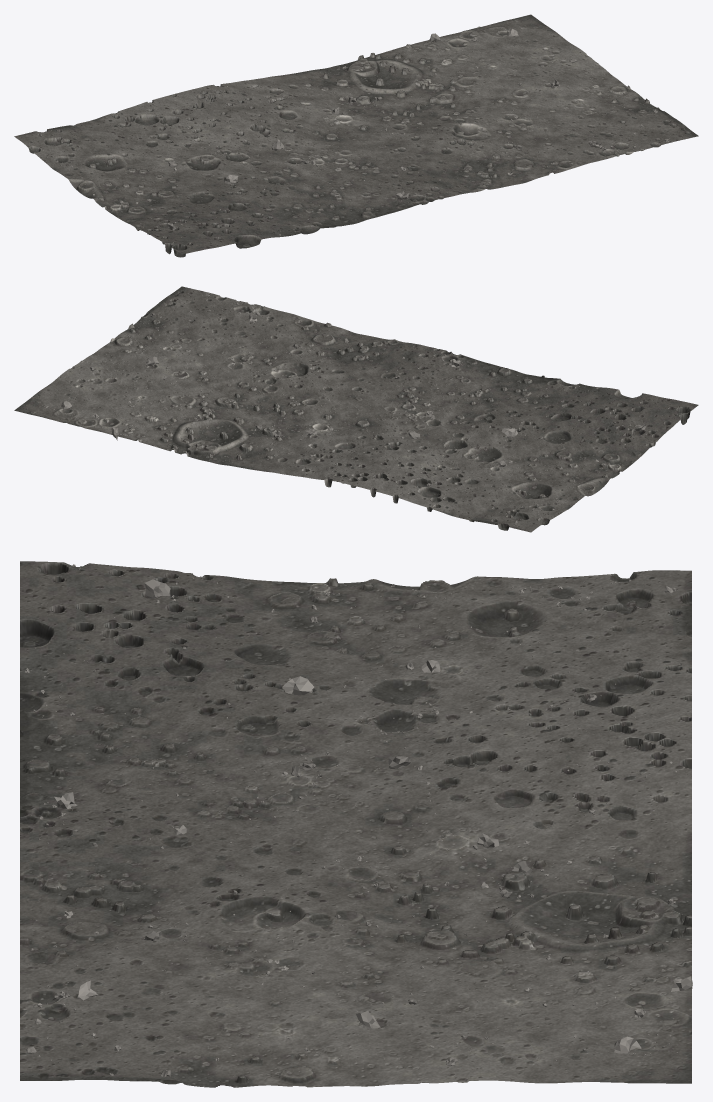
The model's file is moon_terrain_16x9.glb.
The picture shows the model from 3 angles, top to bottom: view 1: azimuth 30°, elevation 25°; view 2: azimuth 150°, elevation 25°; view 3: azimuth 270°, elevation 25°; orthographic projection. The views are drawn at different scales.
Visible parts, largest first — view 1: MoonTerrain, Boulders; view 2: MoonTerrain, Boulders; view 3: MoonTerrain, Boulders.
Boxes of the visible parts, box(x1,y1,x2,y2) form: MoonTerrain: box(14, 14, 698, 257); Boulders: box(37, 21, 671, 244); MoonTerrain: box(14, 286, 698, 532); Boulders: box(37, 293, 682, 524); MoonTerrain: box(20, 561, 691, 1087); Boulders: box(25, 564, 692, 1079).
Bounding box in the file's own units: 160 × 4.96 × 90.14.
2 materials, 1 textured.
